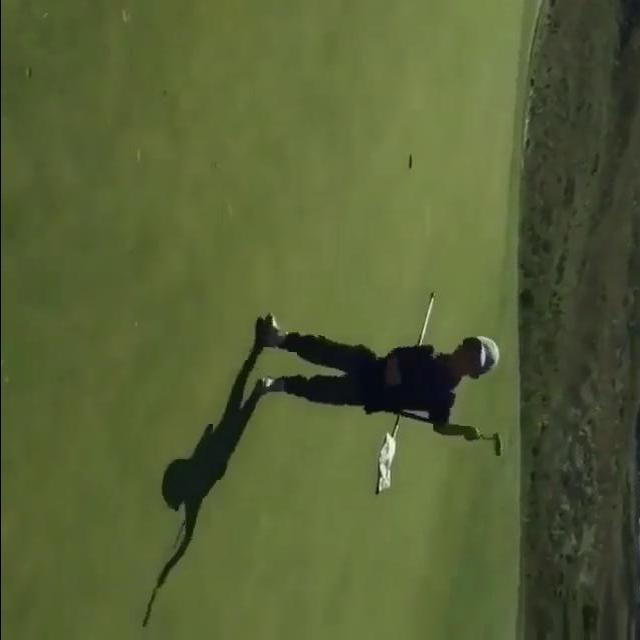ClubHandle: (371, 406, 503, 460)
ClubHead: (492, 432, 501, 457)
